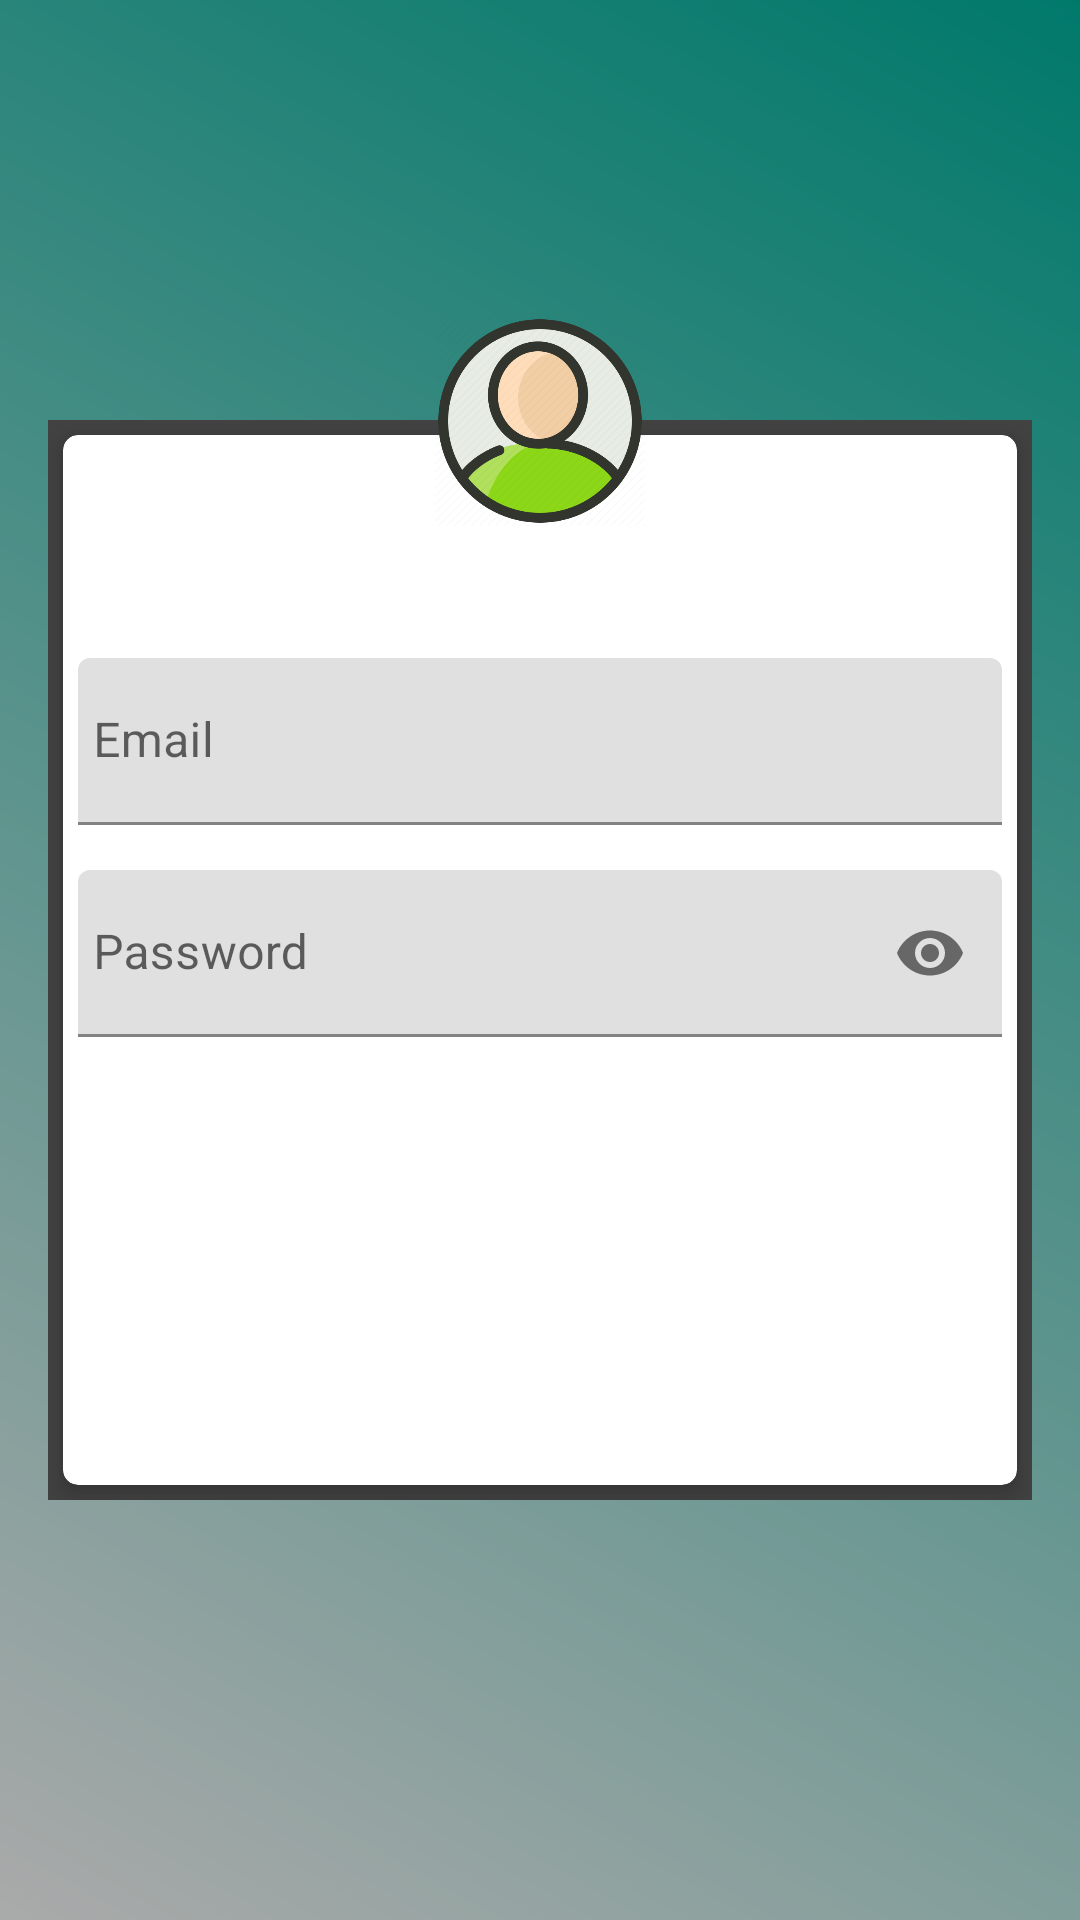

Named icons in this screenshot (1080 x 1920) and their centers, (x=x, y=y):
profile: (x=540, y=421)
